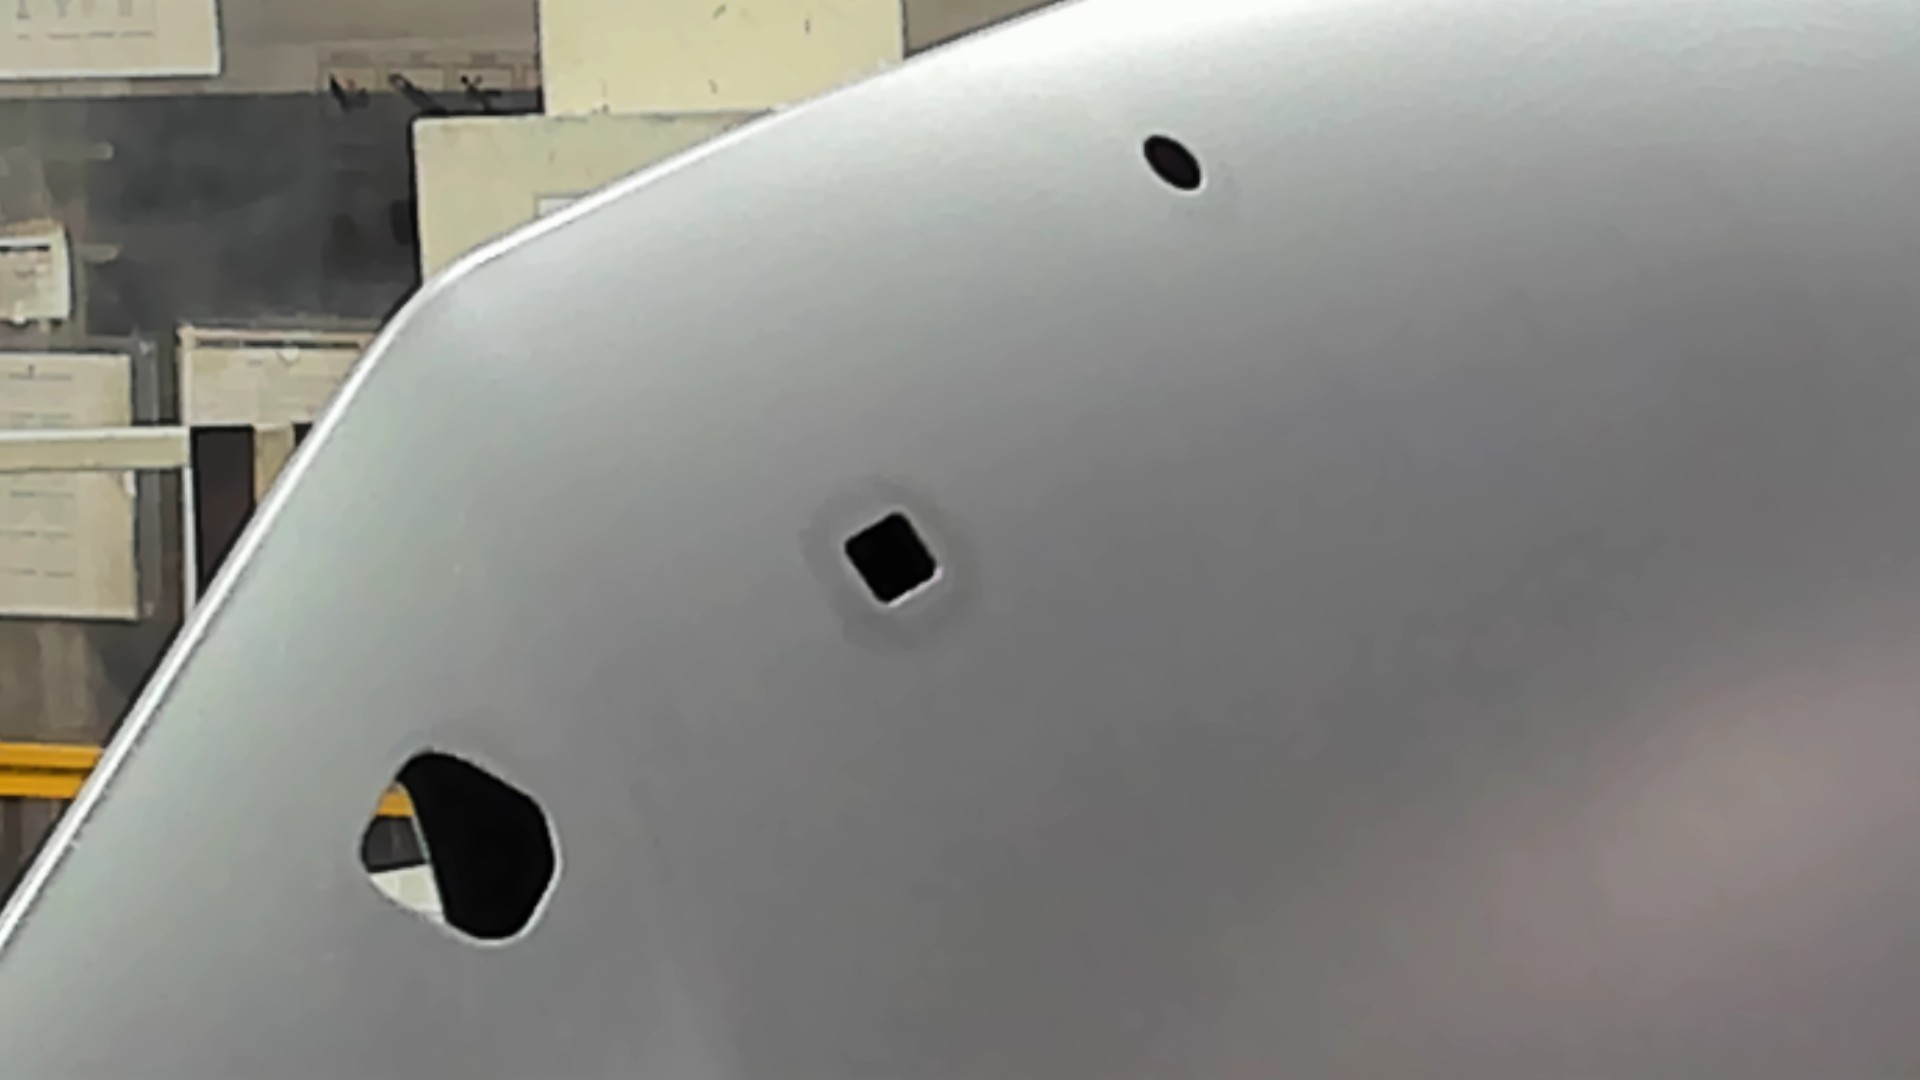chico: (1139, 131, 1205, 196)
grande: (352, 746, 568, 951)
mediano: (837, 505, 945, 615)
